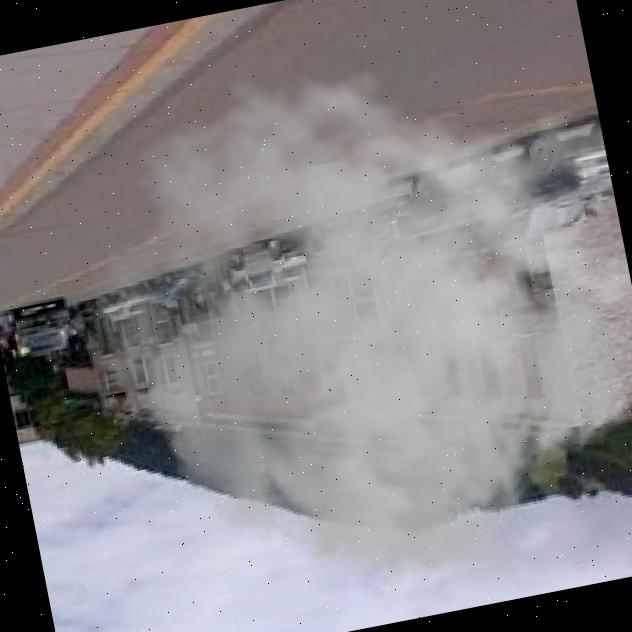smoke: (45, 9, 632, 632)
